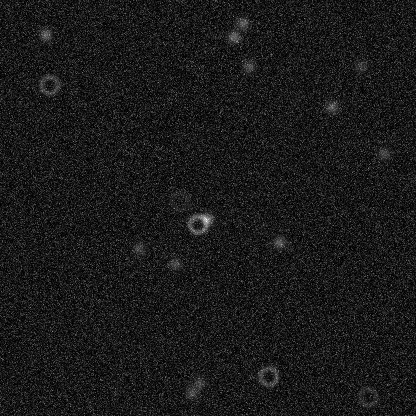Ring: (37, 72, 61, 96), (185, 212, 209, 236), (167, 188, 191, 212), (355, 384, 379, 408), (256, 364, 280, 388)
Spot: (37, 26, 53, 42), (375, 145, 391, 161), (234, 15, 250, 31), (225, 28, 241, 44), (323, 98, 339, 114), (352, 58, 368, 74), (271, 234, 287, 250), (240, 58, 256, 74), (130, 240, 146, 256), (198, 211, 214, 227), (167, 255, 183, 271), (183, 384, 199, 400), (191, 374, 207, 390)
